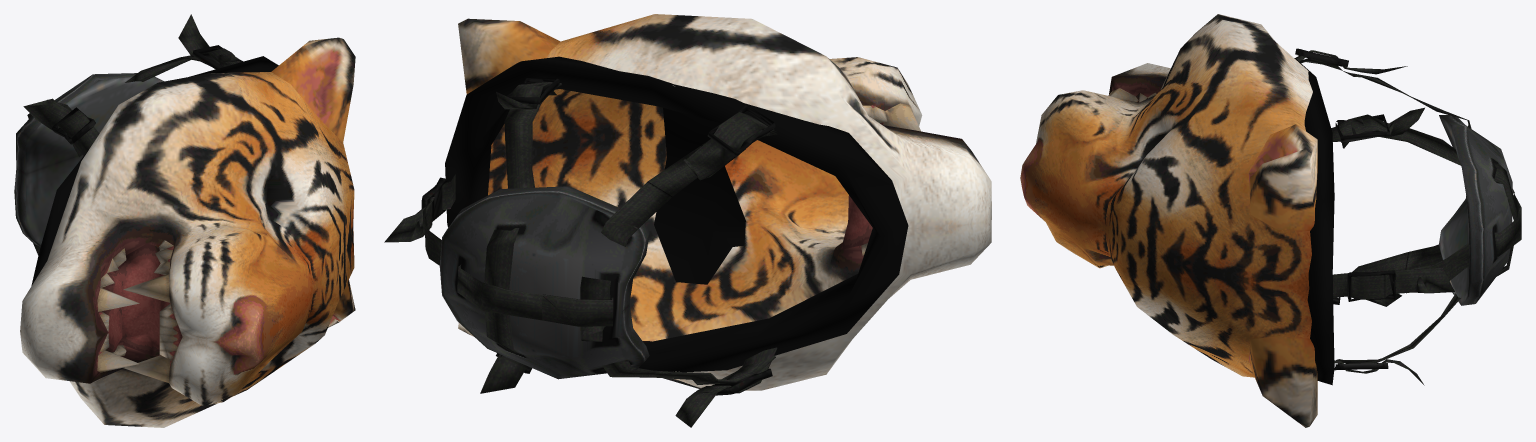
File: M_TigerMask.fbx
3 renders of one model, left to right at view 1: azimuth 30°, elevation 25°; view 2: azimuth 150°, elevation 25°; view 3: azimuth 270°, elevation 25°, orthographic. The views are drawn at different scales.
Parts seen in each view (by area): view 1: TigerMask.001; view 2: TigerMask.001; view 3: TigerMask.001.
Part boxes in pixels (x1,y1,x2,y2): TigerMask.001: (14,14,355,427); TigerMask.001: (384,14,991,427); TigerMask.001: (1020,14,1521,427).
Bounding box in the file's own units: 0.1969 × 0.154 × 0.2164.
